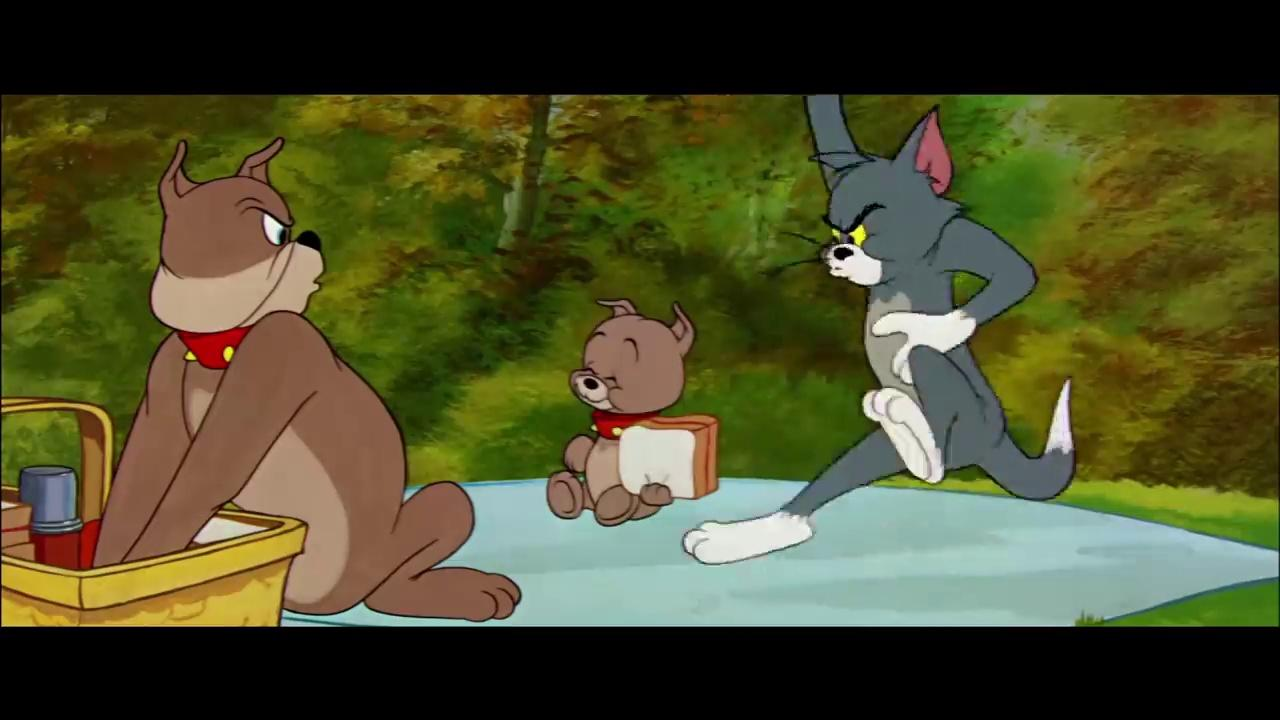Tom: (682, 94, 1078, 567)
